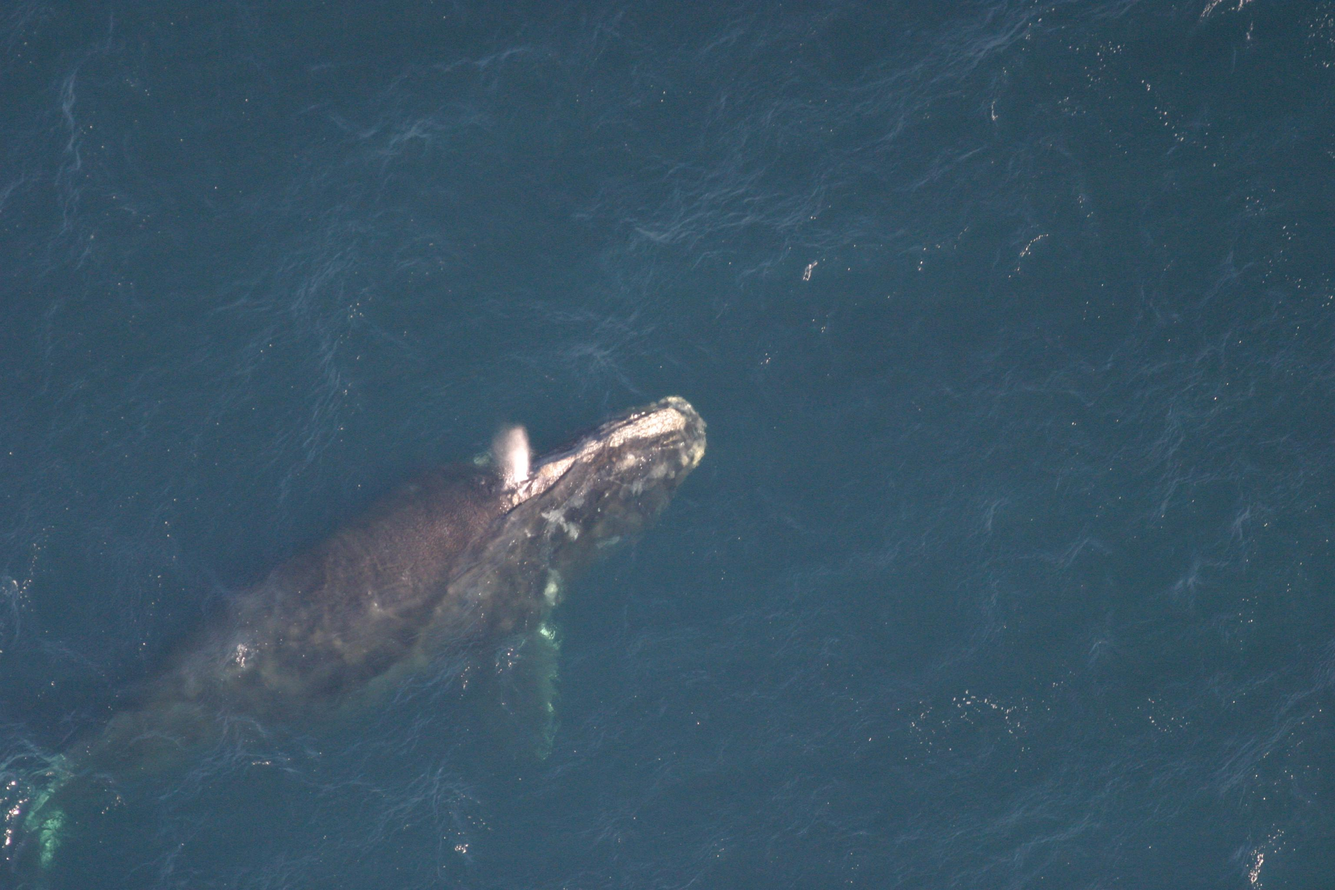whale: (0, 382, 719, 890)
